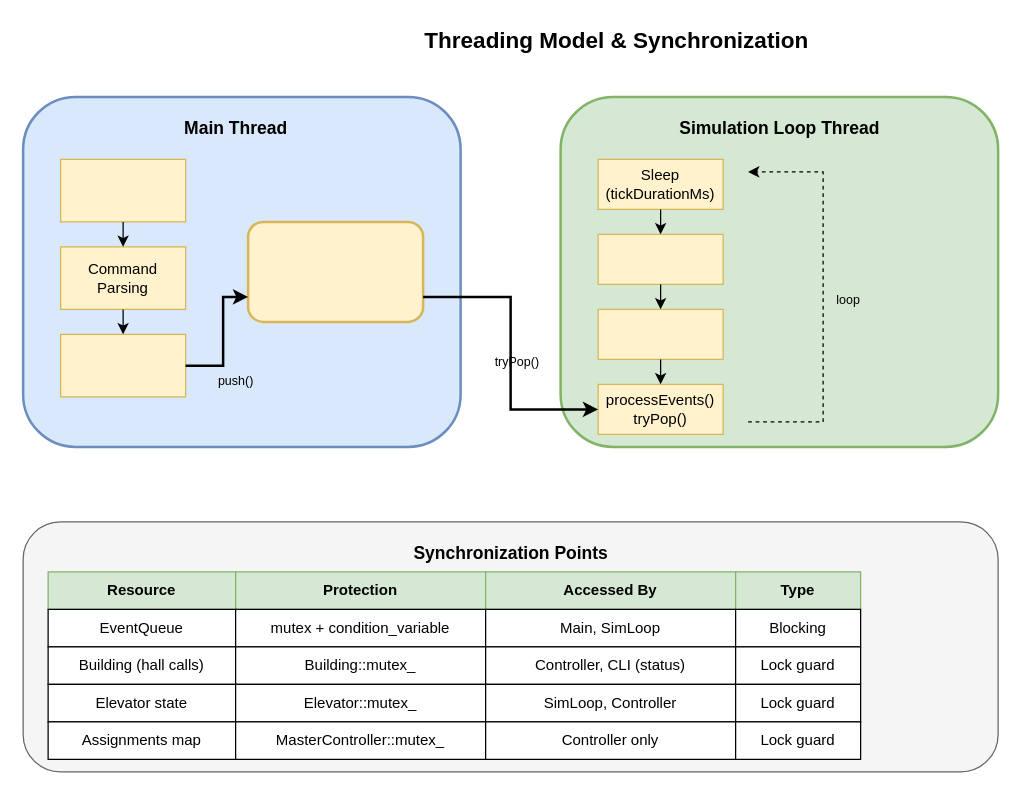
Some shapes in this 1020 by 794 pixel diagram are drawn without their labels. Each missing label, with the box of its shape:
CLI Input Processing: (59, 158, 186, 222)
EventQueue mutex + cv Thread-safe: (246, 220, 424, 322)
Request Validation: (59, 333, 186, 397)
scheduler.tick(): (597, 308, 723, 359)
updateElevators() State Machine: (597, 233, 723, 284)
